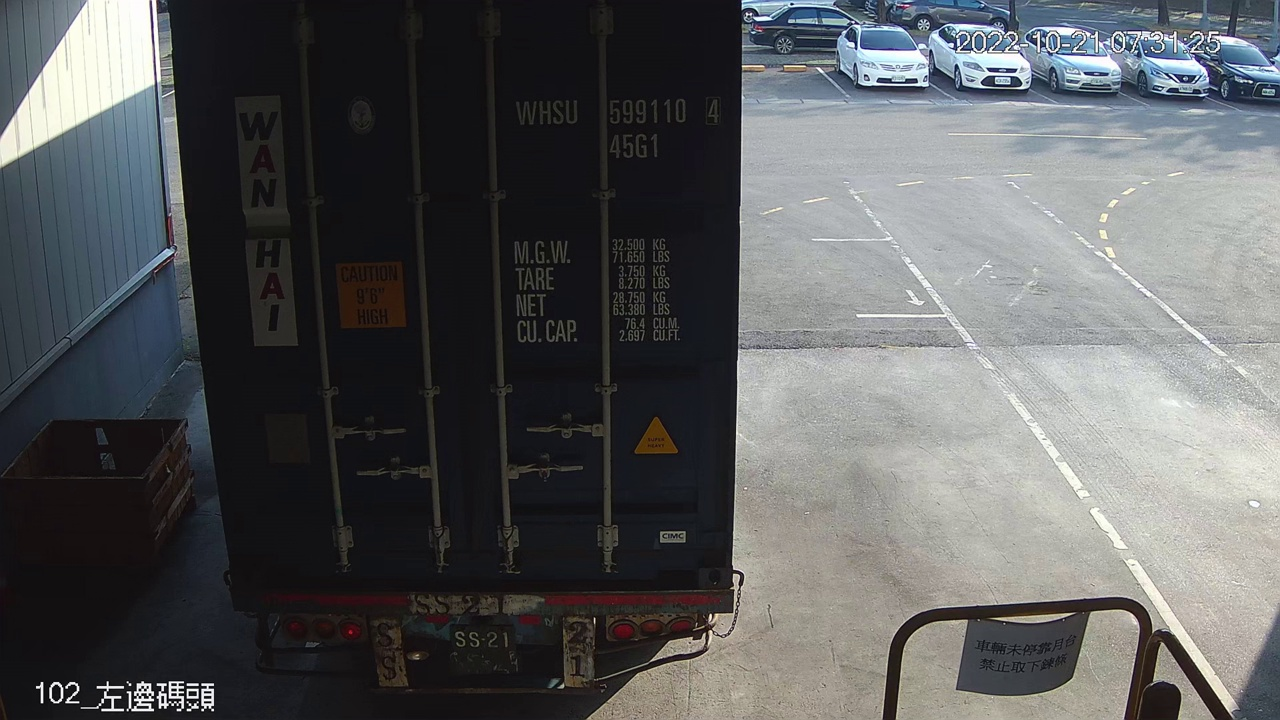container: (507, 89, 728, 167)
